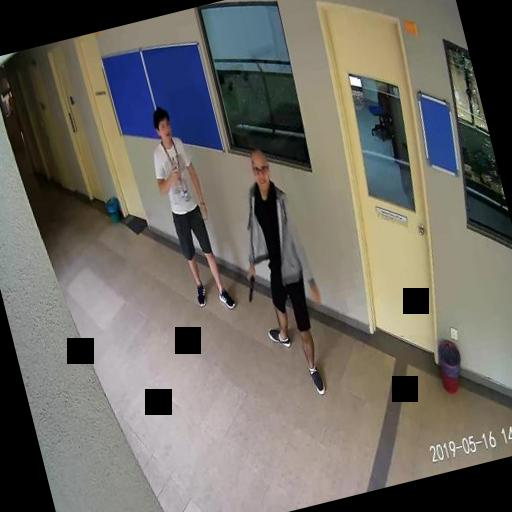Handgun: (241, 270, 258, 300)
